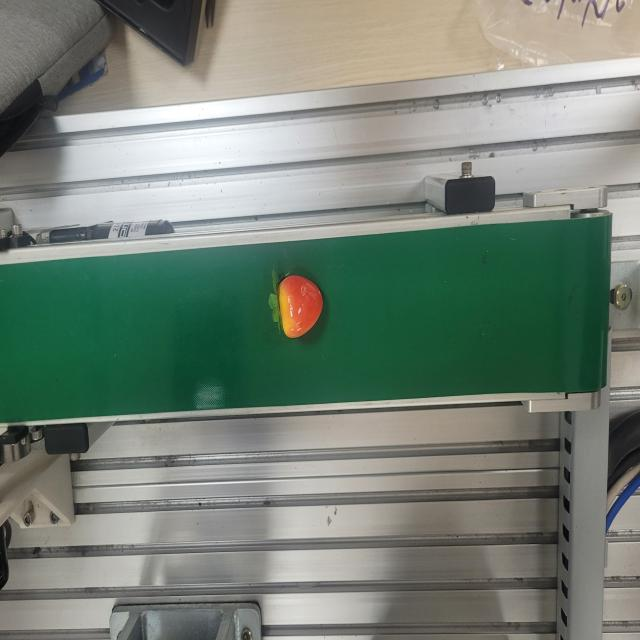Small Unripe Strawberry: (268, 266, 324, 340)
